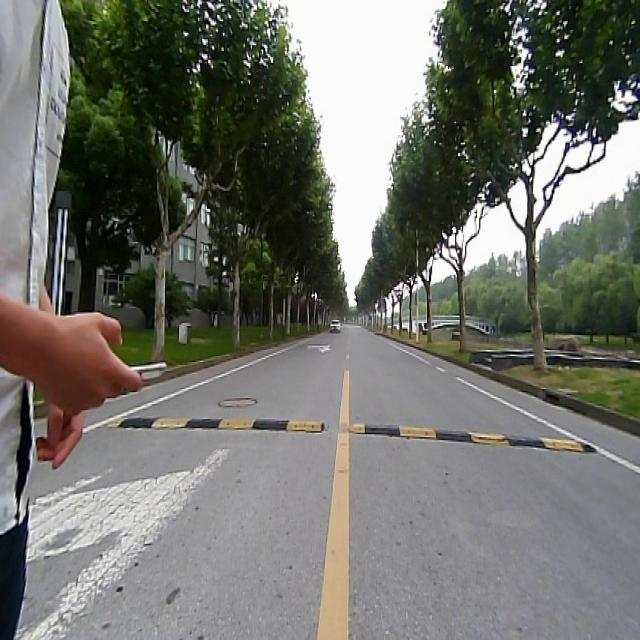Speed Bump: (346, 419, 599, 455), (106, 412, 328, 434)
